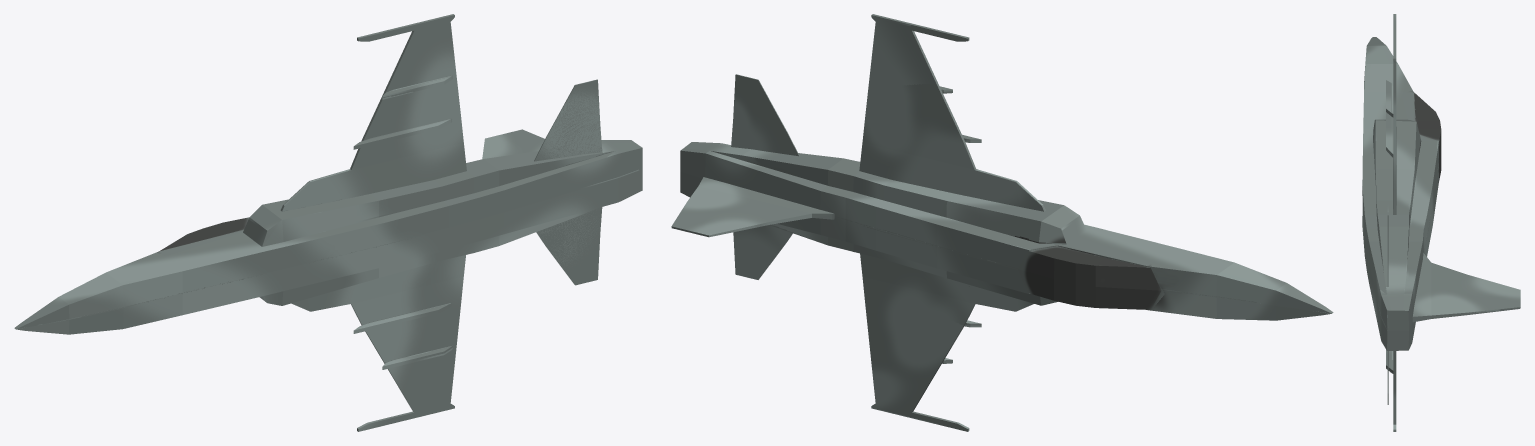
Rendered from f5tiger.fbx.
3 views of the same model, side by side, from view 1: azimuth 30°, elevation 25°; view 2: azimuth 150°, elevation 25°; view 3: azimuth 270°, elevation 25° (orthographic). The views are drawn at different scales.
Parts seen in each view (by area): view 1: Plane.023; view 2: Plane.023; view 3: Plane.023.
Part boxes in pixels (<box>): Plane.023: <box>14,14,642,431</box>; Plane.023: <box>671,14,1333,431</box>; Plane.023: <box>1362,14,1520,431</box>.
Size of the model in its own units: 82.65 by 215 by 363.
